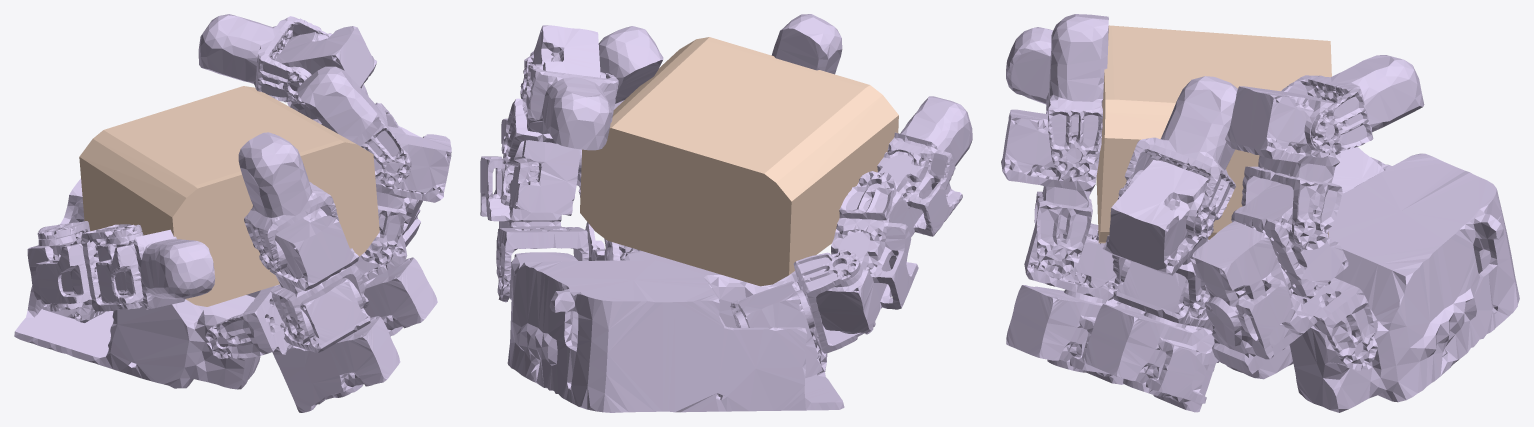
Rendered from d1de13f1a8e115-closed.glb.
The picture shows the model from 3 angles, left to right: view 1: azimuth 30°, elevation 25°; view 2: azimuth 150°, elevation 25°; view 3: azimuth 270°, elevation 25°; orthographic projection. The views are drawn at different scales.
Visible parts, largest first — view 1: LEAP_hand, world; view 2: LEAP_hand, world; view 3: LEAP_hand, world.
Boxes of the visible parts, x1,y1,x2,y2 form: LEAP_hand: (14, 14, 451, 412); world: (79, 86, 379, 306); LEAP_hand: (480, 14, 972, 412); world: (580, 37, 898, 286); LEAP_hand: (1001, 14, 1519, 412); world: (1096, 25, 1331, 243).
Size of the model in its own units: 0.1952 by 0.1414 by 0.1893.
